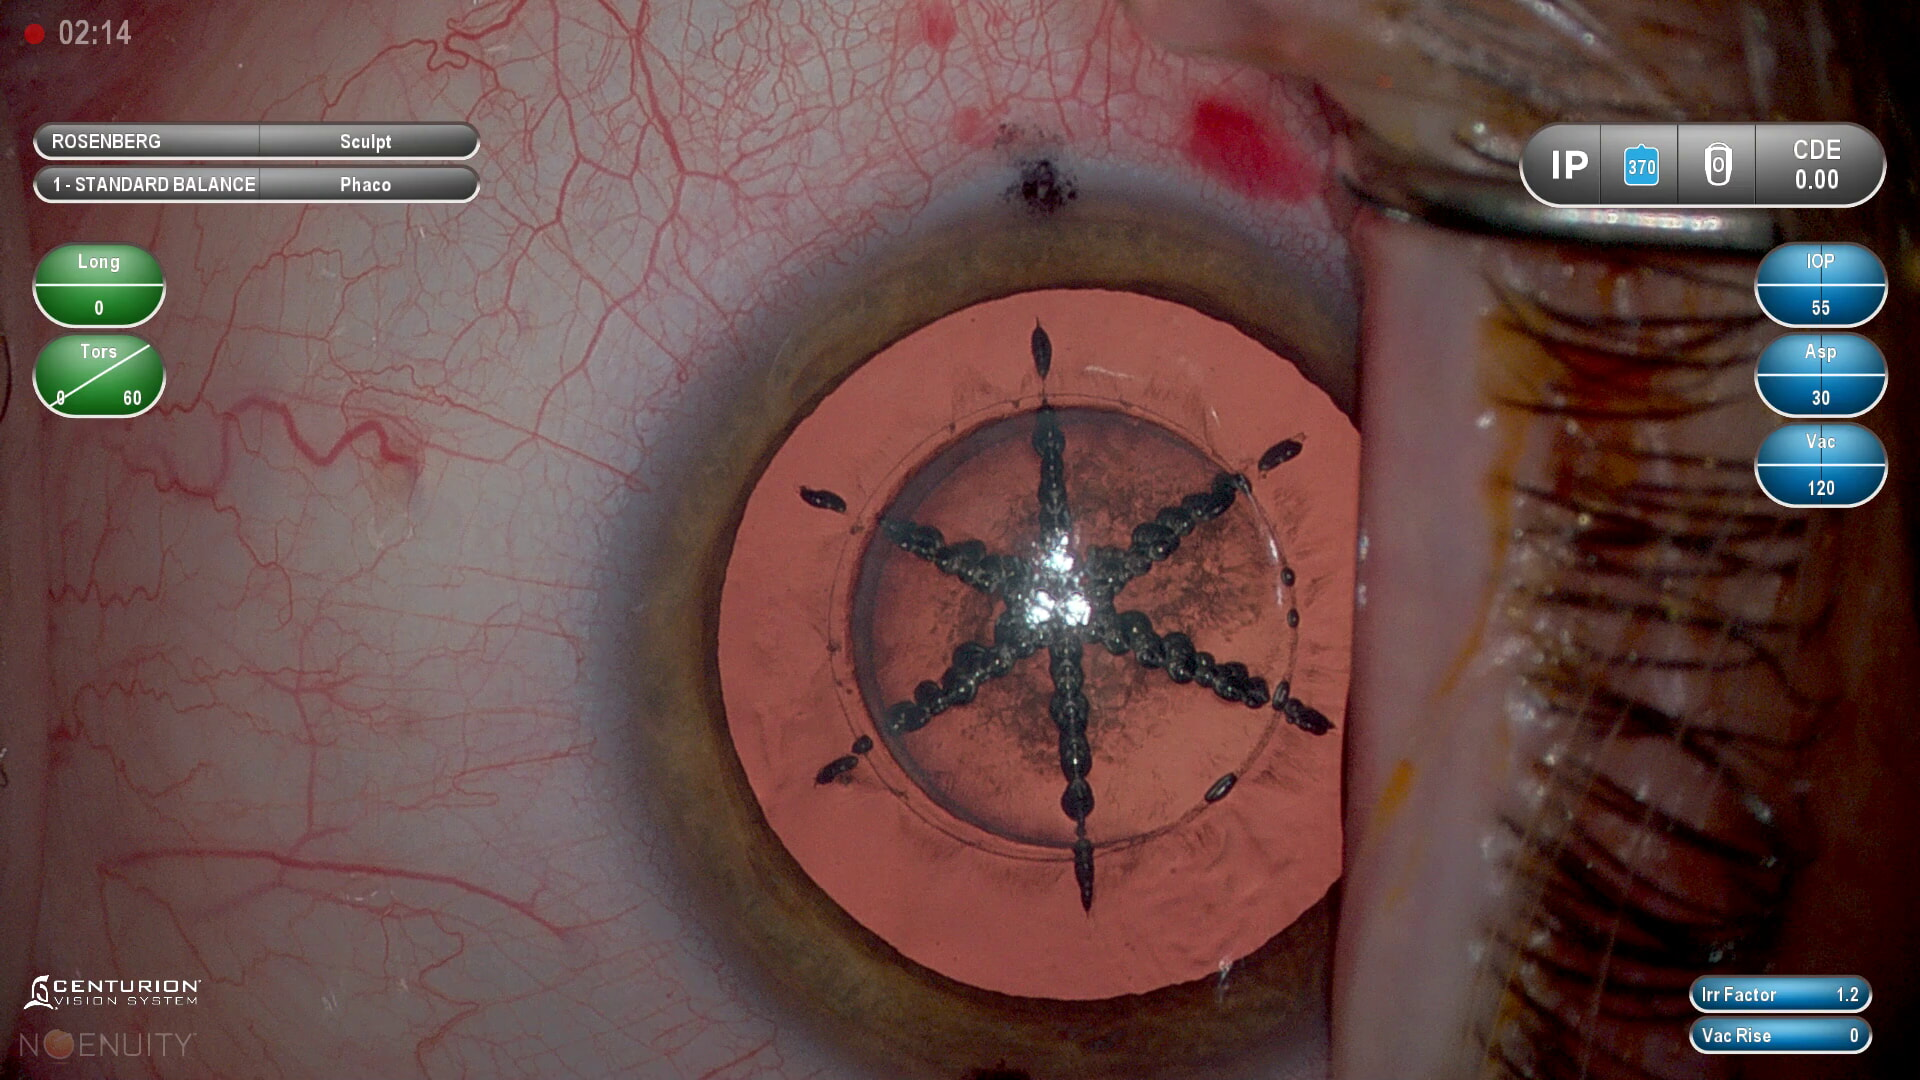iris: (630, 200, 1380, 1080)
pupil: (722, 289, 1371, 1002)
